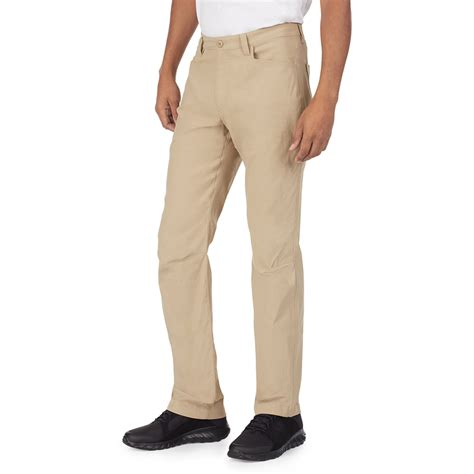nylon: (157, 22, 313, 417)
